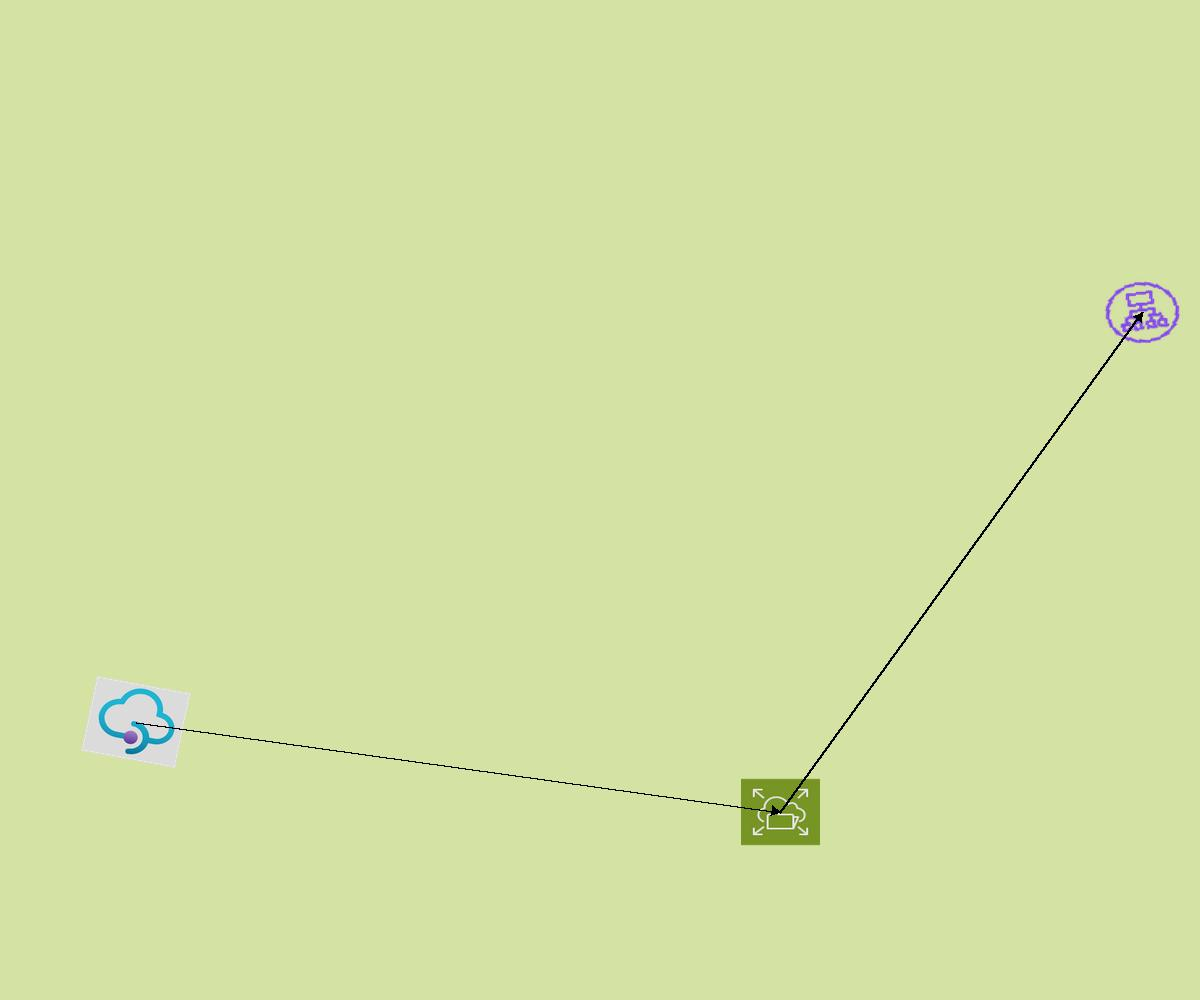AWS-EFS: (740, 778, 821, 846)
AWS-Res_Elastic-Load-Balancing_Application-Load-Balancer: (1096, 274, 1189, 351)
Azure_api_gateway: (81, 676, 191, 768)
